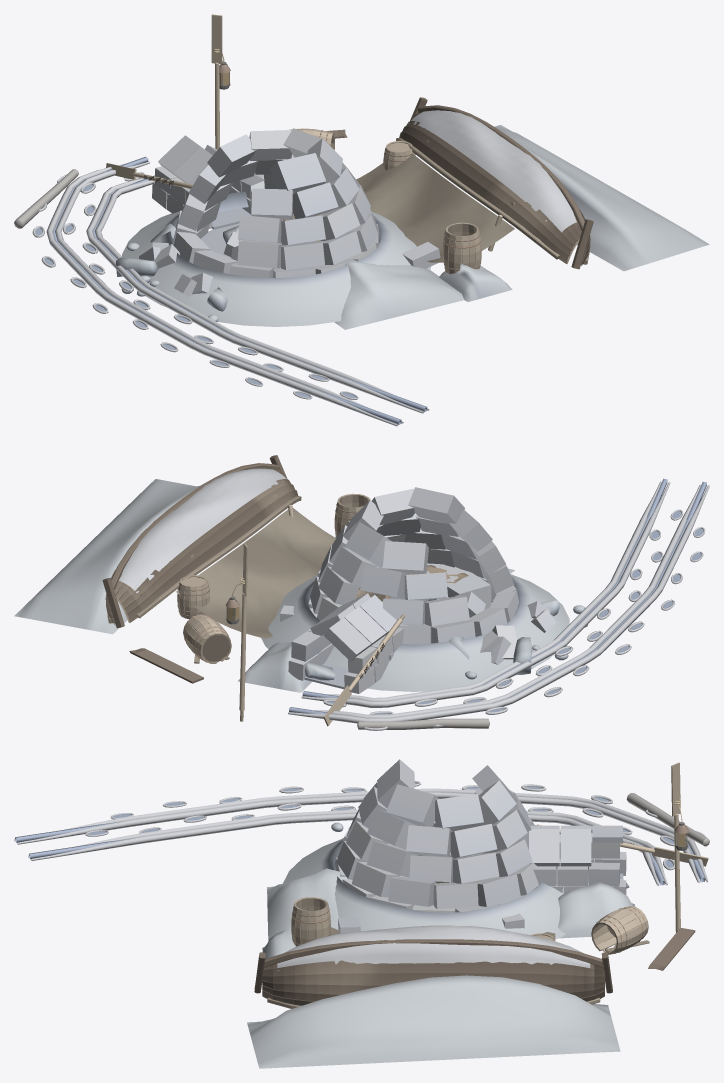
Rendered from stories_castaways.glb.
3 renders of one model, top to bottom at view 1: azimuth 30°, elevation 25°; view 2: azimuth 150°, elevation 25°; view 3: azimuth 270°, elevation 25°, orthographic. The views are drawn at different scales.
Visible parts, largest first — view 1: story_castaways; view 2: story_castaways; view 3: story_castaways.
Boxes of the visible parts, box(x1,y1,x2,y2) form: story_castaways: box(14, 14, 709, 426); story_castaways: box(14, 455, 709, 730); story_castaways: box(14, 759, 709, 1068).
Size of the model in its own units: 8.18 by 2.52 by 8.81.
